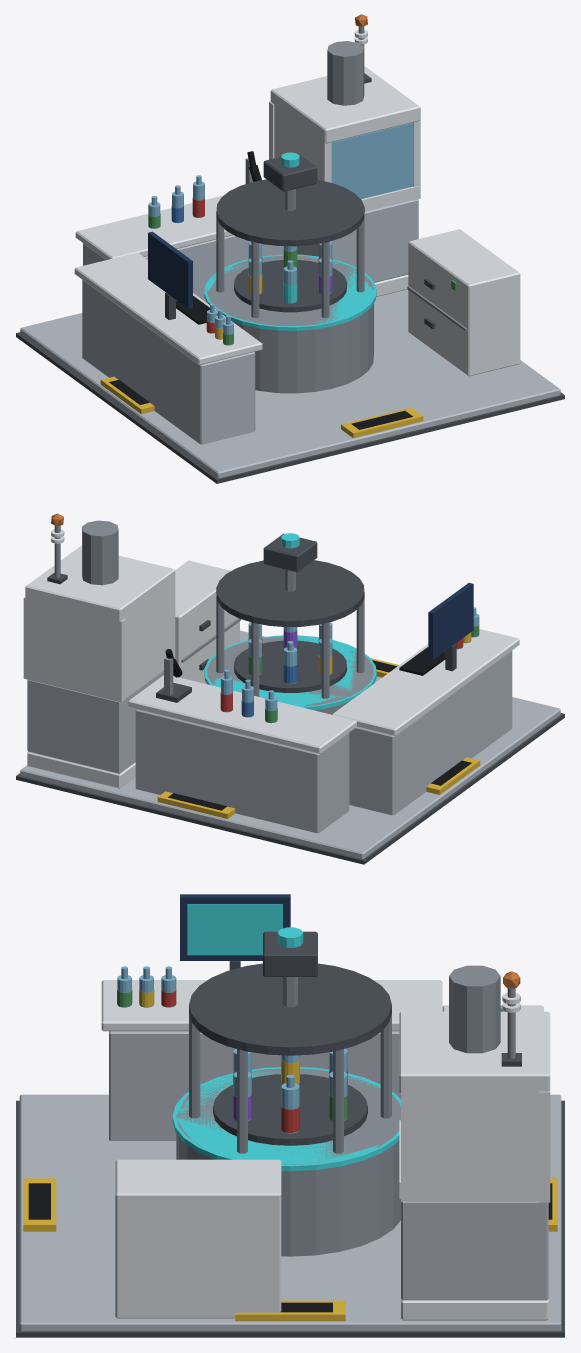
The model's file is laboratoire.glb.
3 renders of one model, top to bottom at view 1: azimuth 30°, elevation 25°; view 2: azimuth 150°, elevation 25°; view 3: azimuth 270°, elevation 25°, orthographic. The views are drawn at different scales.
Parts seen in each view (by area): view 1: pieces_gris_clair.002, pieces_blanc.002, pieces_acier_sombre.002, analyseur_socle.002, pieces_verre.002, carrousel_acier_sombre.002, pieces_acier.002, pieces_cyan.002, hotte_gaine.002, pieces_panneau.002, pieces_noir.002, pieces_jaune.002 (+1 smaller); view 2: pieces_gris_clair.002, pieces_blanc.002, pieces_acier_sombre.002, pieces_acier.002, carrousel_acier_sombre.002, pieces_cyan.002, pieces_panneau.002, hotte_gaine.002, analyseur_socle.002, pieces_noir.002, pieces_jaune.002, pieces_verre.002 (+1 smaller); view 3: pieces_gris_clair.002, pieces_blanc.002, pieces_acier_sombre.002, analyseur_socle.002, carrousel_acier_sombre.002, pieces_cyan.002, pieces_acier.002, voyant_ecran.002, hotte_gaine.002, pieces_jaune.002, pieces_panneau.002, pieces_noir.002 (+2 smaller).
Part boxes in pixels (x1=…): pieces_gris_clair.002: x1=20, y1=199, x2=560, y2=478; pieces_blanc.002: x1=74, y1=30, x2=520, y2=376; pieces_acier_sombre.002: x1=16, y1=73, x2=564, y2=483; analyseur_socle.002: x1=207, y1=255, x2=373, y2=393; pieces_verre.002: x1=148, y1=122, x2=412, y2=345; carrousel_acier_sombre.002: x1=234, y1=260, x2=346, y2=312; pieces_acier.002: x1=216, y1=26, x2=467, y2=331; pieces_cyan.002: x1=204, y1=254, x2=376, y2=330; hotte_gaine.002: x1=327, y1=41, x2=364, y2=105; pieces_panneau.002: x1=148, y1=231, x2=192, y2=308; pieces_noir.002: x1=109, y1=151, x2=412, y2=429; pieces_jaune.002: x1=100, y1=327, x2=423, y2=438; pieces_gris_clair.002: x1=20, y1=630, x2=560, y2=859; pieces_blanc.002: x1=23, y1=529, x2=519, y2=788; pieces_acier_sombre.002: x1=16, y1=533, x2=564, y2=864; pieces_acier.002: x1=54, y1=525, x2=364, y2=698; carrousel_acier_sombre.002: x1=234, y1=640, x2=346, y2=692; pieces_cyan.002: x1=204, y1=635, x2=376, y2=710; pieces_panneau.002: x1=428, y1=583, x2=473, y2=659; hotte_gaine.002: x1=82, y1=520, x2=118, y2=585; analyseur_socle.002: x1=207, y1=636, x2=373, y2=714; pieces_noir.002: x1=165, y1=647, x2=471, y2=810; pieces_jaune.002: x1=157, y1=632, x2=480, y2=818; pieces_verre.002: x1=221, y1=607, x2=479, y2=723; pieces_gris_clair.002: x1=19, y1=1031, x2=561, y2=1331; pieces_blanc.002: x1=101, y1=980, x2=550, y2=1320; pieces_acier_sombre.002: x1=16, y1=931, x2=564, y2=1337; analyseur_socle.002: x1=176, y1=1068, x2=400, y2=1256; carrousel_acier_sombre.002: x1=213, y1=1074, x2=367, y2=1145; pieces_cyan.002: x1=172, y1=1067, x2=400, y2=1171; pieces_acier.002: x1=189, y1=977, x2=515, y2=1153; voyant_ecran.002: x1=187, y1=904, x2=282, y2=955; hotte_gaine.002: x1=449, y1=965, x2=500, y2=1053; pieces_jaune.002: x1=23, y1=990, x2=557, y2=1321; pieces_panneau.002: x1=180, y1=894, x2=290, y2=960; pieces_noir.002: x1=28, y1=1183, x2=552, y2=1312.
Size of the model in its own units: 1.5 by 1.05 by 1.5.
